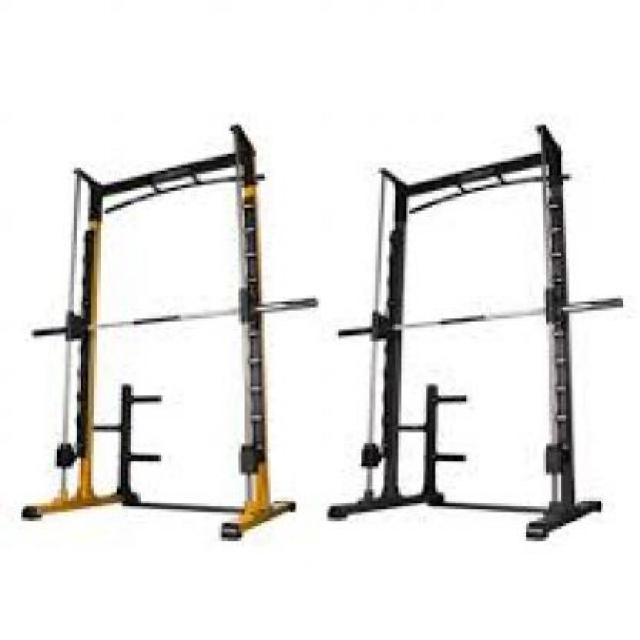smith machine: (326, 126, 625, 539), (23, 125, 317, 540)
